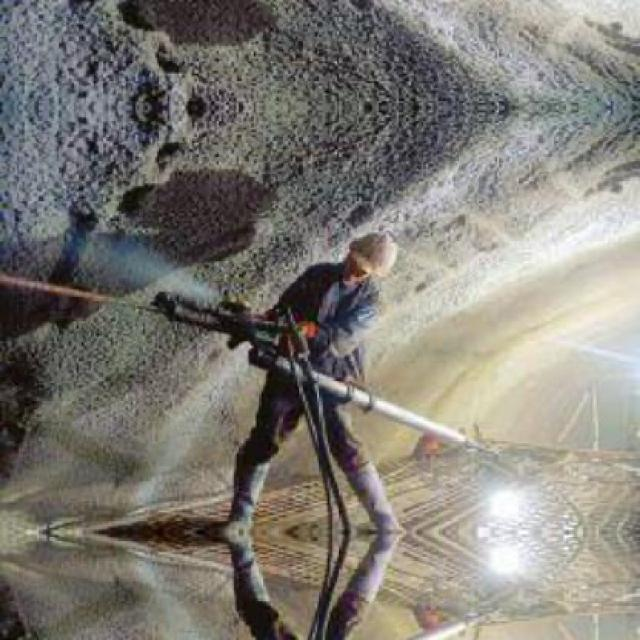con casco: (313, 220, 418, 301)
